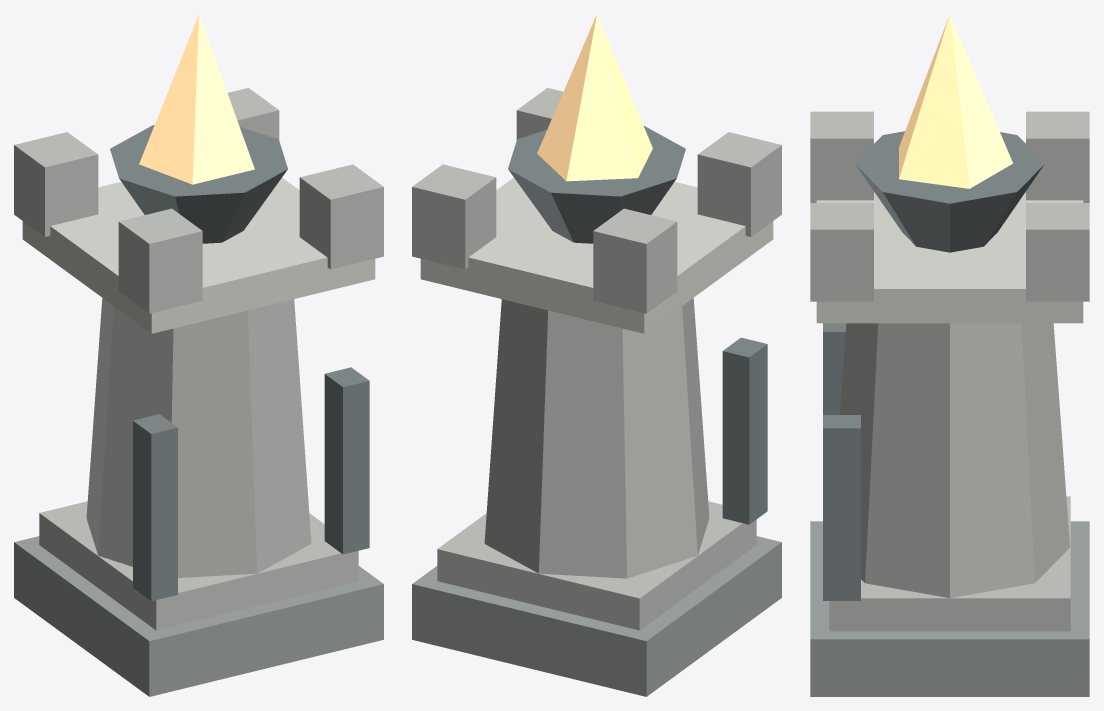
The model's file is human_fire_t2.glb.
The picture shows the model from 3 angles, left to right: view 1: azimuth 30°, elevation 25°; view 2: azimuth 150°, elevation 25°; view 3: azimuth 270°, elevation 25°; orthographic projection. The views are drawn at different scales.
Visible parts, largest first — view 1: human_fire_t2_MAT_stone, human_fire_t2_MAT_iron, human_fire_t2_MAT_dark, human_fire_t2_MAT_light, human_fire_t2_MAT_fire; view 2: human_fire_t2_MAT_stone, human_fire_t2_MAT_dark, human_fire_t2_MAT_light, human_fire_t2_MAT_iron, human_fire_t2_MAT_fire; view 3: human_fire_t2_MAT_stone, human_fire_t2_MAT_dark, human_fire_t2_MAT_iron, human_fire_t2_MAT_light, human_fire_t2_MAT_fire.
Boxes of the visible parts, box(x1,y1,x2,y2) form: human_fire_t2_MAT_stone: box(14, 88, 383, 630); human_fire_t2_MAT_iron: box(110, 125, 369, 601); human_fire_t2_MAT_dark: box(14, 536, 383, 696); human_fire_t2_MAT_light: box(22, 177, 375, 333); human_fire_t2_MAT_fire: box(139, 14, 254, 184); human_fire_t2_MAT_stone: box(412, 88, 781, 630); human_fire_t2_MAT_dark: box(412, 536, 781, 696); human_fire_t2_MAT_light: box(420, 177, 773, 333); human_fire_t2_MAT_iron: box(508, 125, 767, 524); human_fire_t2_MAT_fire: box(537, 14, 652, 181); human_fire_t2_MAT_stone: box(810, 111, 1089, 631); human_fire_t2_MAT_dark: box(810, 521, 1089, 696); human_fire_t2_MAT_iron: box(823, 131, 1044, 600); human_fire_t2_MAT_light: box(816, 192, 1083, 323); human_fire_t2_MAT_fire: box(899, 14, 1012, 188).
Size of the model in its own units: 0.88 by 2.17 by 0.88.
